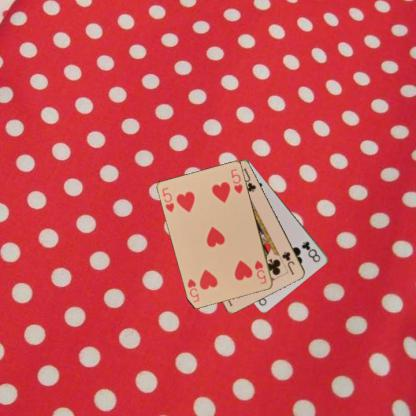5h: (160, 185, 176, 214), (252, 258, 268, 285)
8c: (299, 238, 322, 263)
Jc: (280, 249, 296, 276)
